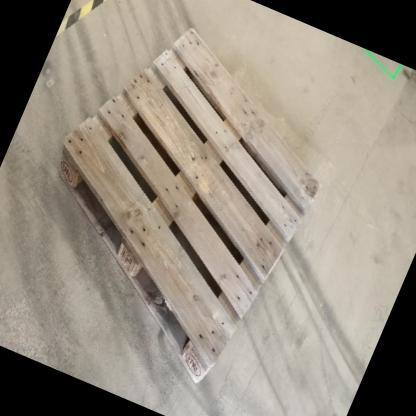BoxFace: (53, 20, 325, 394)
